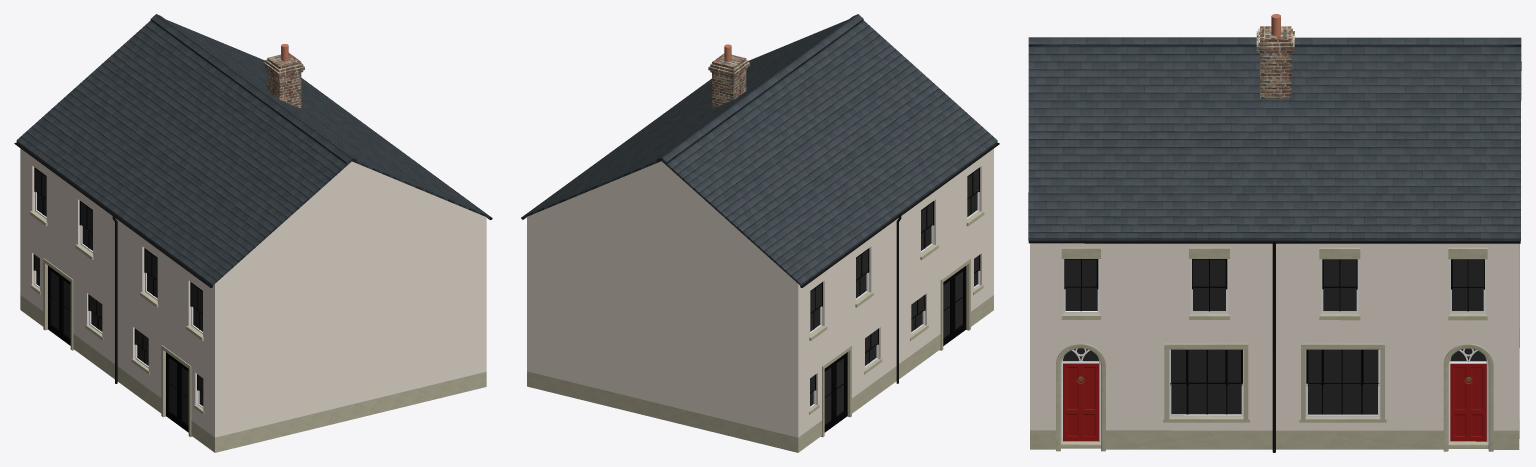
Rendered from casa 4.obj.
3 renders of one model, left to right at view 1: azimuth 30°, elevation 25°; view 2: azimuth 150°, elevation 25°; view 3: azimuth 270°, elevation 25°, orthographic. The views are drawn at different scales.
Parts seen in each view (by area): view 1: houseF; view 2: houseF; view 3: houseF.
Boxes of the visible parts, left/top/right/bottom form: houseF: left=14, top=14, right=492, bottom=452; houseF: left=521, top=14, right=999, bottom=452; houseF: left=1028, top=14, right=1521, bottom=452.
Bounding box in the file's own units: 41.82 × 41.89 × 50.32.
16 materials, 10 textured.
